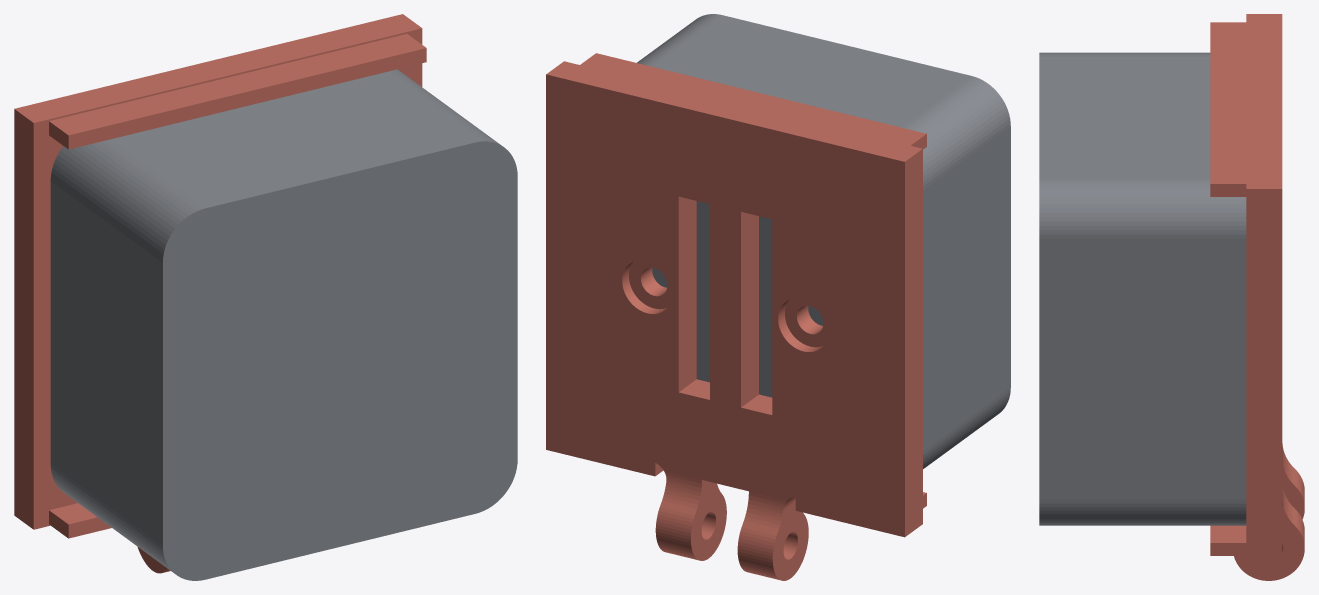
File: d405_camera_mount_with_d405.glb
3 views of the same model, side by side, from view 1: azimuth 30°, elevation 25°; view 2: azimuth 150°, elevation 25°; view 3: azimuth 270°, elevation 25° (orthographic). The views are drawn at different scales.
Visible parts, largest first — view 1: d405_reference_body, d405_camera_mount; view 2: d405_camera_mount, d405_reference_body; view 3: d405_reference_body, d405_camera_mount.
Part boxes in pixels (x1,y1,x2,y2): d405_reference_body: (50, 69, 517, 580); d405_camera_mount: (14, 14, 426, 573); d405_camera_mount: (546, 53, 926, 580); d405_reference_body: (637, 14, 1010, 468); d405_reference_body: (1039, 52, 1246, 525); d405_camera_mount: (1210, 14, 1304, 580).
Size of the model in its own units: 0.046 by 0.0552 by 0.0295.
